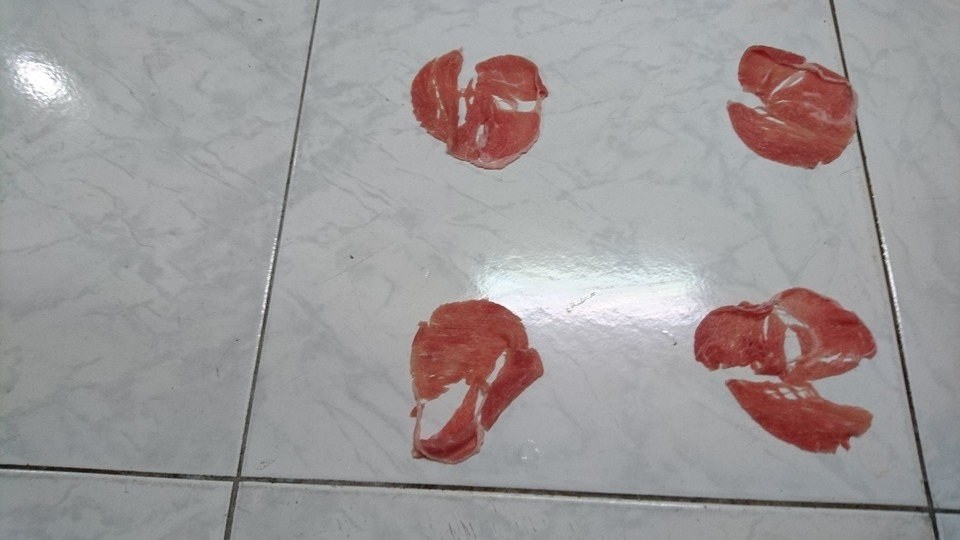restructured meat: (697, 267, 879, 455), (396, 31, 586, 185), (392, 287, 545, 478), (719, 43, 863, 179)
